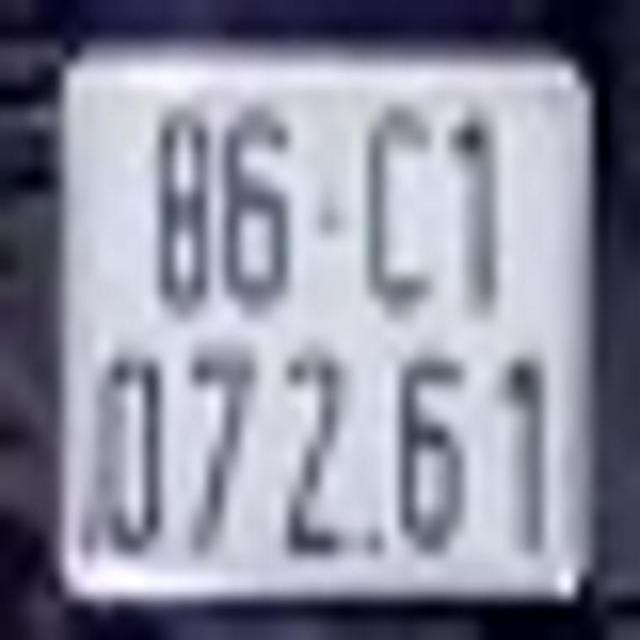0: (90, 344, 165, 554)
1: (449, 103, 506, 322), (502, 348, 557, 564)
2: (280, 341, 356, 570)
6: (219, 103, 298, 312), (395, 352, 472, 563)
7: (186, 340, 266, 559)
8: (156, 98, 216, 321)
C: (356, 107, 441, 316)
